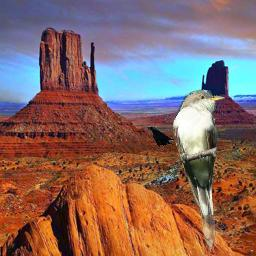Crow: (146, 126, 174, 152)
Cuckoo: (173, 89, 225, 251)
